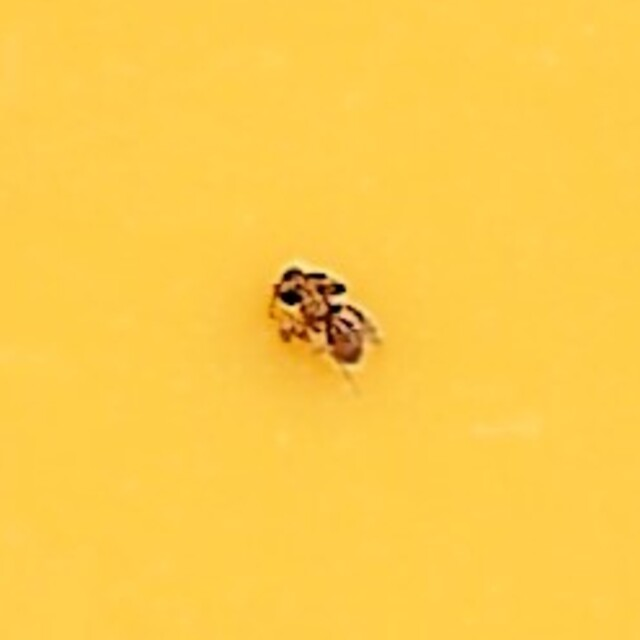Hymenoptera: (258, 266, 382, 374)
